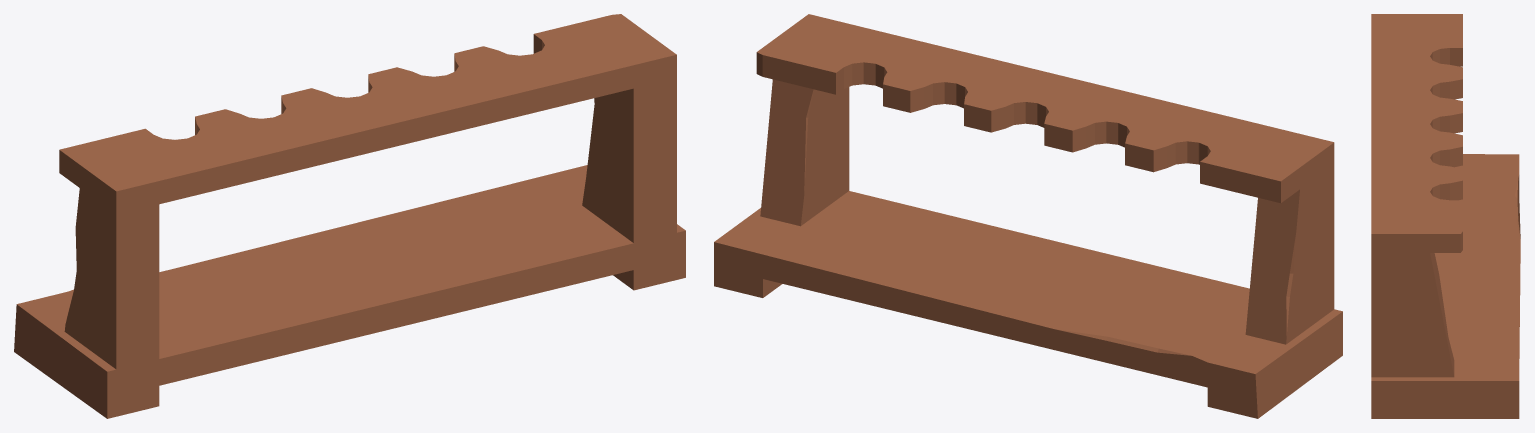
File: WeaponHolder.fbx
3 views of the same model, side by side, from view 1: azimuth 30°, elevation 25°; view 2: azimuth 150°, elevation 25°; view 3: azimuth 270°, elevation 25° (orthographic). The views are drawn at different scales.
Visible parts, largest first — view 1: WeaponHolder; view 2: WeaponHolder; view 3: WeaponHolder.
Boxes of the visible parts, <box> form: WeaponHolder: <box>14,14,685,418</box>; WeaponHolder: <box>714,14,1342,418</box>; WeaponHolder: <box>1371,14,1520,418</box>.
Bounding box in the file's own units: 6.21 × 2.3 × 1.72.
